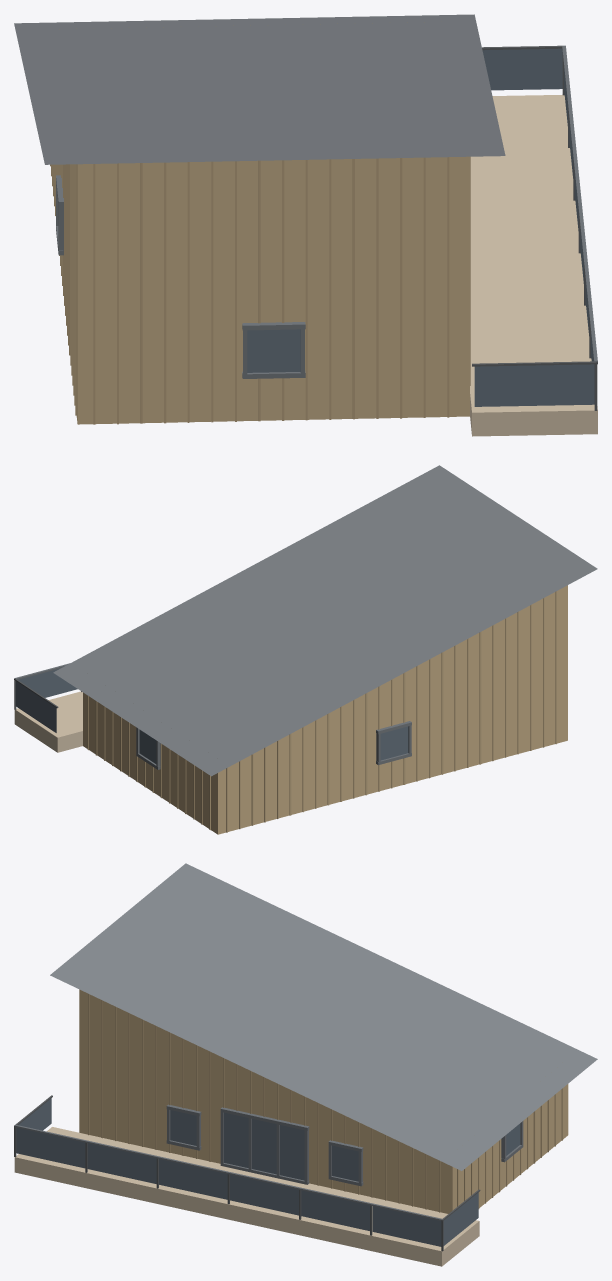
3 renders of one model, top to bottom at view 1: azimuth 30°, elevation 25°; view 2: azimuth 150°, elevation 25°; view 3: azimuth 270°, elevation 25°, orthographic. The views are drawn at different scales.
Visible parts, largest first — view 1: door_wood, slate, larch, door_wood_p, window_glass_007, slate_dk, window_glass_008, window_glass_014, pipe; view 2: slate, door_wood, door_wood_p, larch, slate_dk, window_glass_008, window_glass_006, window_glass_016; view 3: slate, door_wood, larch, door_wood_p, slate_dk, window_glass_001, window_glass_002, window_glass_006, window_glass_004, window_glass_005, window_glass_003, window_glass_011 (+7 smaller).
Part boxes in pixels (left/top/right/bottom): door_wood: left=59, top=22, right=469, bottom=424; slate: left=14, top=14, right=505, bottom=164; larch: left=470, top=94, right=597, bottom=436; door_wood_p: left=50, top=156, right=470, bottom=424; window_glass_007: left=474, top=364, right=594, bottom=406; slate_dk: left=56, top=45, right=597, bottom=378; window_glass_008: left=482, top=48, right=562, bottom=90; window_glass_014: left=247, top=329, right=300, bottom=372; pipe: left=472, top=45, right=597, bottom=410; slate: left=53, top=465, right=597, bottom=776; door_wood: left=83, top=585, right=567, bottom=834; door_wood_p: left=87, top=591, right=556, bottom=832; larch: left=14, top=691, right=82, bottom=752; slate_dk: left=14, top=663, right=411, bottom=769; window_glass_008: left=15, top=681, right=56, bottom=732; window_glass_006: left=18, top=668, right=77, bottom=697; window_glass_016: left=380, top=726, right=408, bottom=760; slate: left=50, top=863, right=597, bottom=1170; door_wood: left=79, top=989, right=568, bottom=1213; larch: left=14, top=1127, right=479, bottom=1266; door_wood_p: left=88, top=993, right=562, bottom=1212; slate_dk: left=14, top=1104, right=523, bottom=1220; window_glass_001: left=16, top=1127, right=85, bottom=1168; window_glass_002: left=87, top=1143, right=156, bottom=1183; window_glass_006: left=372, top=1206, right=441, bottom=1246; window_glass_004: left=230, top=1174, right=298, bottom=1215; window_glass_005: left=301, top=1190, right=369, bottom=1230; window_glass_003: left=159, top=1159, right=227, bottom=1199; window_glass_011: left=280, top=1125, right=304, bottom=1180.
Bounding box in the file's own units: 15.84 × 5.77 × 17.26.
